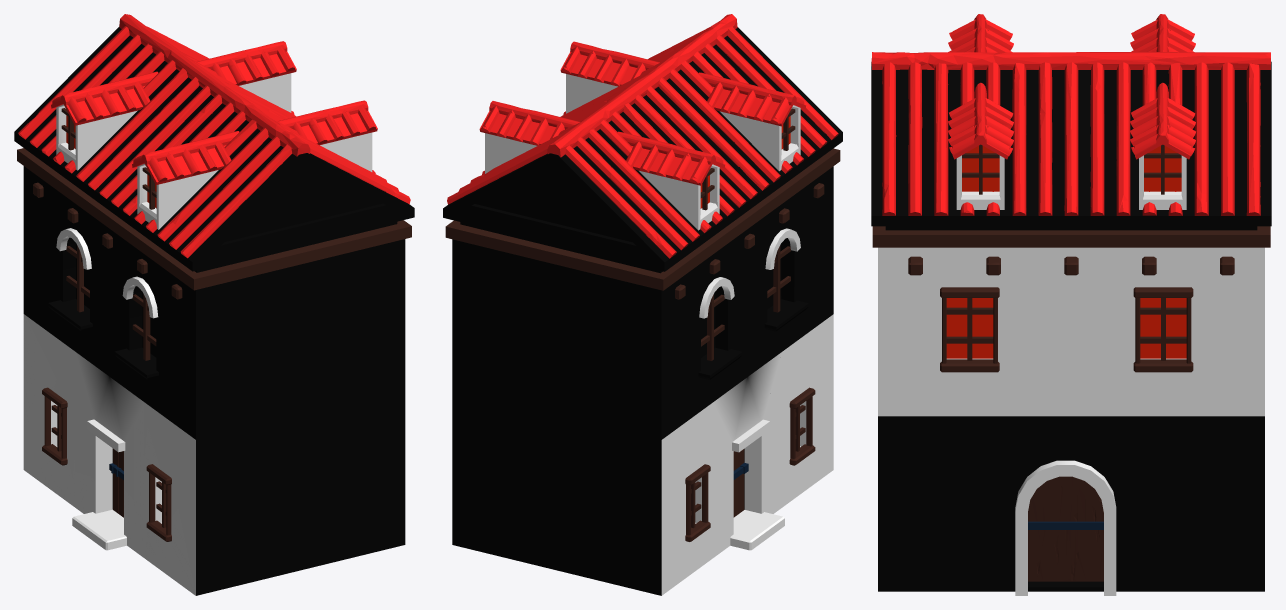
The model's file is civilian_house_37_f.FBX.
3 views of the same model, side by side, from view 1: azimuth 30°, elevation 25°; view 2: azimuth 150°, elevation 25°; view 3: azimuth 270°, elevation 25° (orthographic). The views are drawn at different scales.
Parts seen in each view (by area): view 1: civilian_house_37_f; view 2: civilian_house_37_f; view 3: civilian_house_37_f.
Boxes of the visible parts, left/top/right/bottom form: civilian_house_37_f: left=14, top=14, right=414, bottom=595; civilian_house_37_f: left=443, top=14, right=842, bottom=595; civilian_house_37_f: left=871, top=14, right=1271, bottom=595.
Size of the model in its own units: 568 by 962 by 725.
